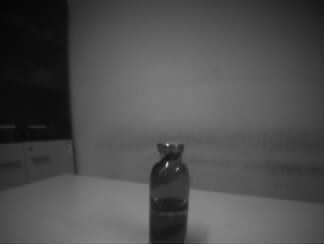Bottle: (148, 143, 191, 244)
